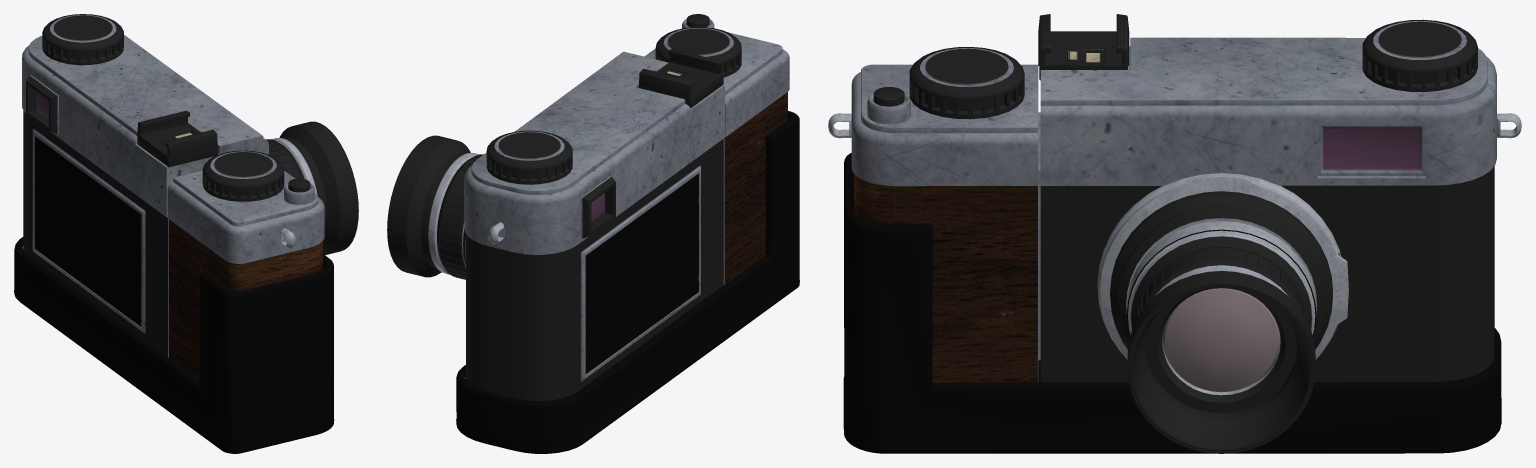
The picture shows the model from 3 angles, left to right: view 1: azimuth 30°, elevation 25°; view 2: azimuth 150°, elevation 25°; view 3: azimuth 270°, elevation 25°; orthographic projection. The views are drawn at different scales.
Parts seen in each view (by area): view 1: MNesssucherkamera_0, Sockel_2, Objektiv_1; view 2: MNesssucherkamera_0, Sockel_2, Objektiv_1; view 3: MNesssucherkamera_0, Sockel_2, Objektiv_1.
Boxes of the visible parts, x1,y1,x2,y2 form: MNesssucherkamera_0: (22,14,324,380); Sockel_2: (14,237,334,453); Objektiv_1: (266,121,358,255); MNesssucherkamera_0: (464,14,789,400); Sockel_2: (456,111,799,453); Objektiv_1: (387,135,483,279); MNesssucherkamera_0: (828,14,1521,382); Sockel_2: (843,153,1501,453); Objektiv_1: (1110,191,1332,453).
Bounding box in the file's own units: 0.4316 × 0.479 × 0.7975.
Materials: 3 (2 with a texture image).
